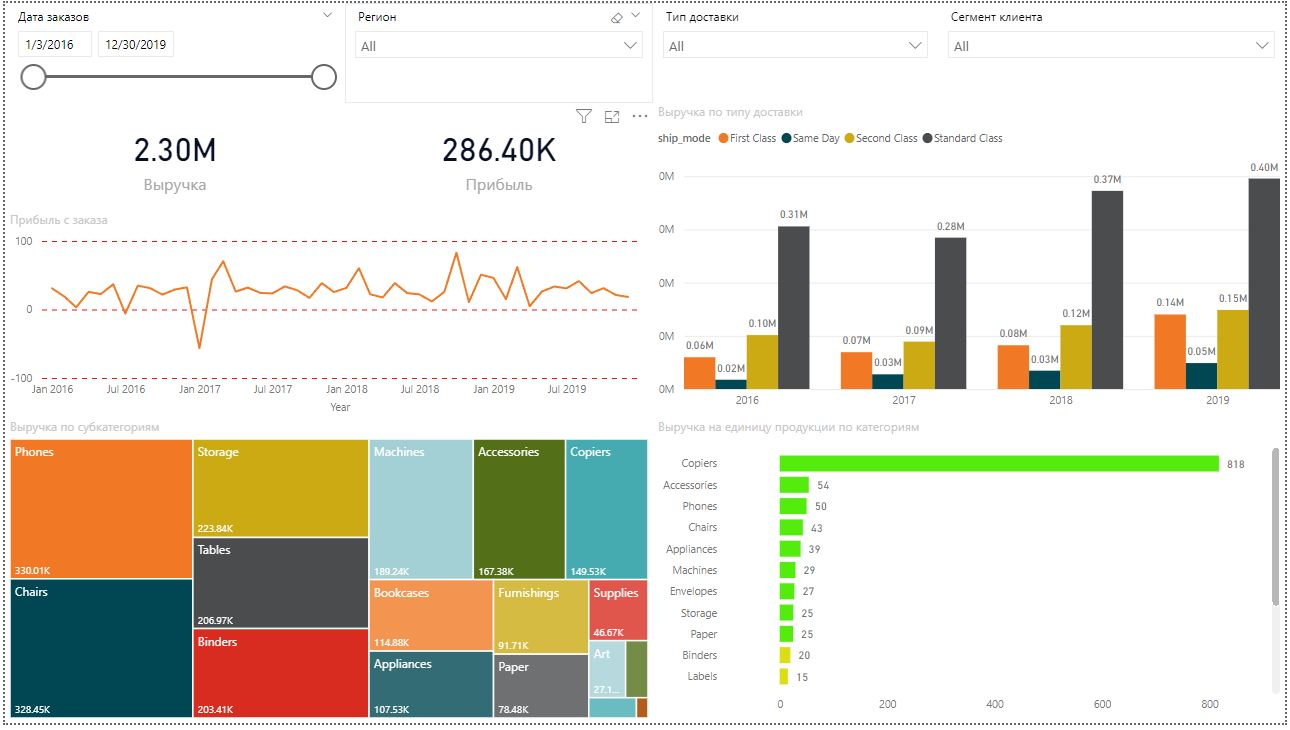

The dashboard page shown, as its layout file describes it:
{"tool":"powerbi","page":{"name":"Page 1","canvas":[1280,720],"ordinal":0},"visuals":[{"type":"clusteredColumnChart","title":"Выручка по типу доставки","fields":{"Category":["sample_superstore.order_date.Variation.Date Hierarchy.Year"],"Y":["Sum(sample_superstore.sales)"],"Series":["sample_superstore.ship_mode"]},"box":[647.8,100.2,632.2,315.1],"z":0},{"type":"slicer","fields":{"Values":["sample_superstore.order_date"]},"box":[0,0,340.4,100.2],"z":1000},{"type":"card","title":"Сумма продаж","fields":{"Values":["Sum(sample_superstore.sales)"]},"box":[0,100.2,340.4,108],"z":2000},{"type":"slicer","fields":{"Values":["sample_superstore.region"]},"box":[340.4,0,307.4,100.2],"z":3000},{"type":"card","title":"Сумма продаж","fields":{"Values":["Sum(sample_superstore.profit)"]},"box":[340.4,100.2,307.4,108],"z":4000},{"type":"lineChart","title":"Прибыль с заказа","fields":{"Y":["sample_superstore.profit divided by Count of order_id"],"Category":["sample_superstore.order_date.Variation.Date Hierarchy.Year","sample_superstore.order_date.Variation.Date Hierarchy.Quarter","sample_superstore.order_date.Variation.Date Hierarchy.Month"]},"box":[0,208.1,647.8,208.1],"z":5000},{"type":"slicer","fields":{"Values":["sample_superstore.ship_mode"]},"box":[647.8,0,285,100.2],"z":6000},{"type":"slicer","fields":{"Values":["sample_superstore.segment"]},"box":[932.8,0,347.2,100.2],"z":7000},{"type":"treemap","title":"Выручка по субкатегориям","fields":{"Values":["Sum(sample_superstore.sales)"],"Group":["sample_superstore.sub_category"]},"box":[0,415.3,647.8,304.4],"z":8000},{"type":"barChart","title":"Выручка на единицу продукции по категориям","fields":{"Category":["sample_superstore.sub_category"],"Y":["sample_superstore.profit divided by category_order_count"]},"box":[648,415,632,304],"z":9000}]}

Visuals, with their boxes in screenshot pixels (x1, y1, x2, y2), scaled from the page's 1280x720 canvas onto the 1290x730 screenshot:
"Выручка по типу доставки" clusteredColumnChart: 653,102,1289,421
slicer - sample_superstore.order_date: 0,0,343,102
"Сумма продаж" card: 0,102,343,211
slicer - sample_superstore.region: 343,0,653,102
"Сумма продаж" card: 343,102,653,211
"Прибыль с заказа" lineChart: 0,211,653,422
slicer - sample_superstore.ship_mode: 653,0,940,102
slicer - sample_superstore.segment: 940,0,1289,102
"Выручка по субкатегориям" treemap: 0,421,653,729
"Выручка на единицу продукции по категориям" barChart: 653,421,1289,729
